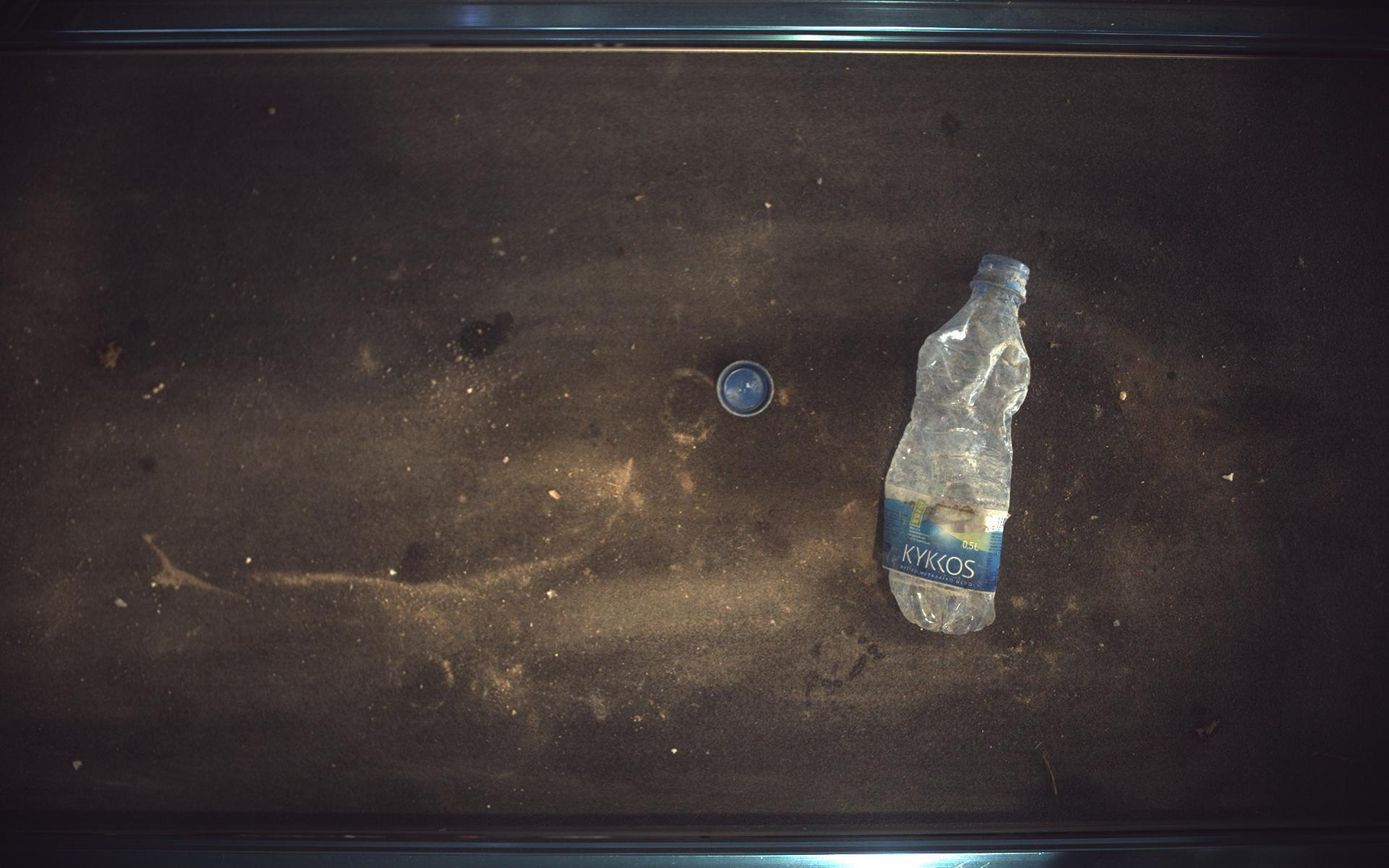general_w: (885, 254, 1032, 635), (717, 360, 776, 417)
